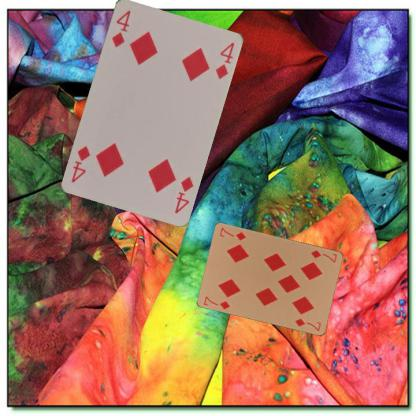4d: (108, 7, 132, 48), (172, 174, 194, 214)
7d: (308, 247, 338, 264), (201, 294, 232, 310)
